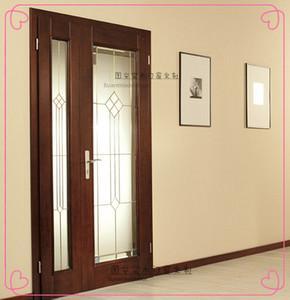door: (39, 16, 150, 280)
